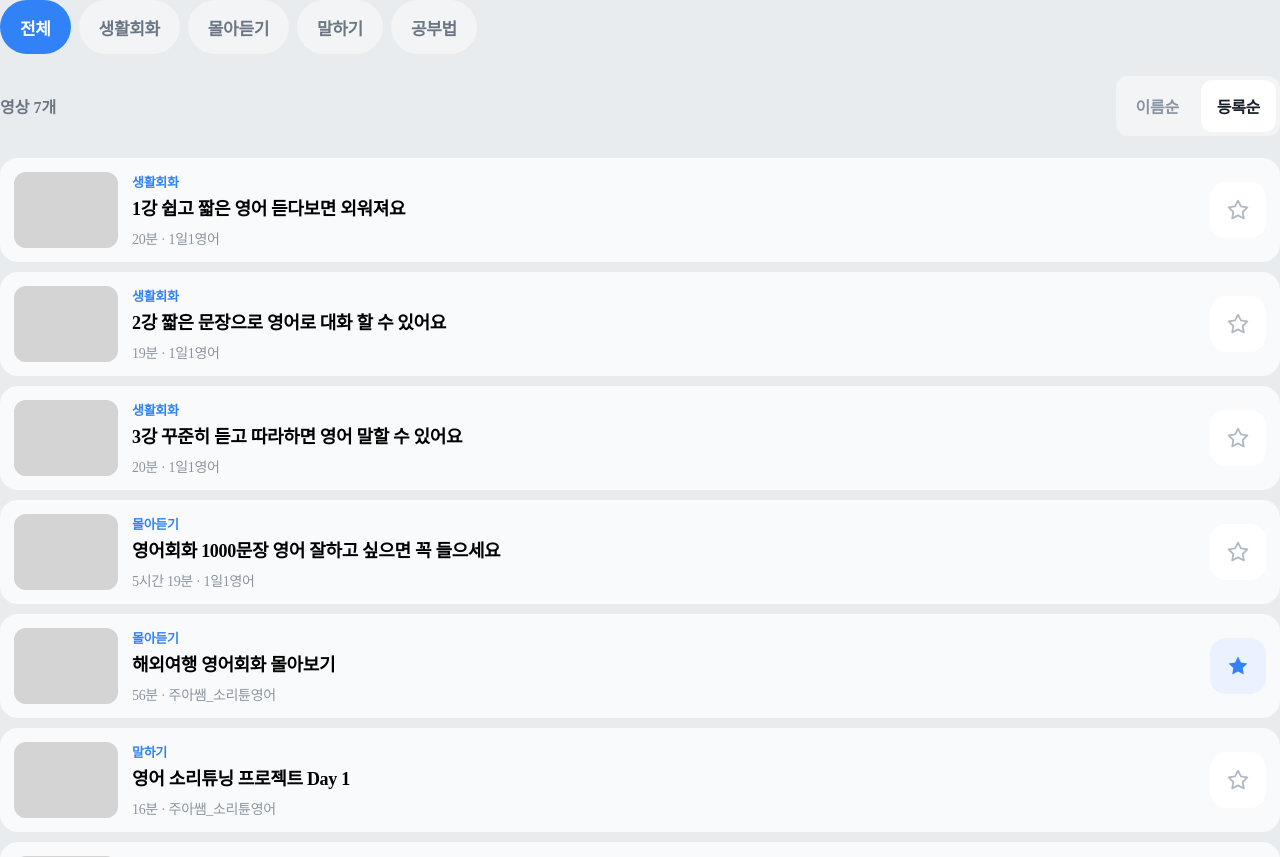
Test: 영상 화면 › 카테고리를 바꿔도 정렬 기준이 유지된다
The width and height of the screenshot is (1280, 857).
expect the text "영상 7개" is shown: met, box [0,94,56,118]
Click the button "공부법" at point(434, 27), box [391,0,477,54]
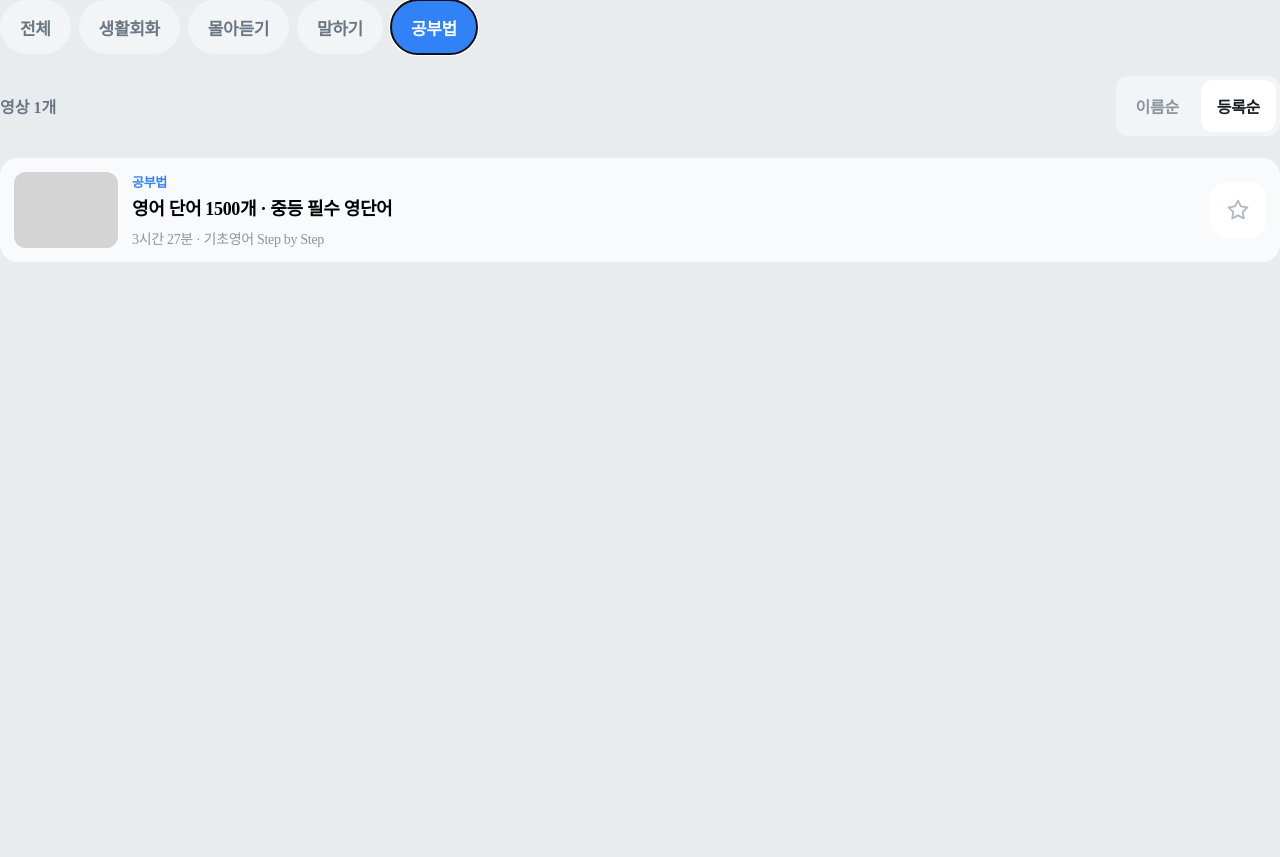
expect the radio button labelled "등록순" is checked: met, box [1201,80,1276,132]
expect the text "영상 1개" is shown: met, box [0,94,56,118]
